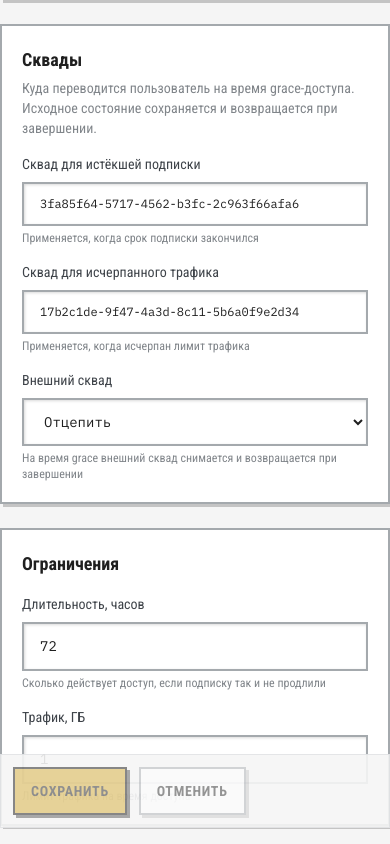
Test: раздел grace-доступа › выбор «Аварийный сквад» не сбрасывается обратно на «Отцепить»
(page scrolled)
Select "Аварийный сквад" in the dropdown labelled "Внешний сквад" at (195, 422), box [22, 398, 368, 446]
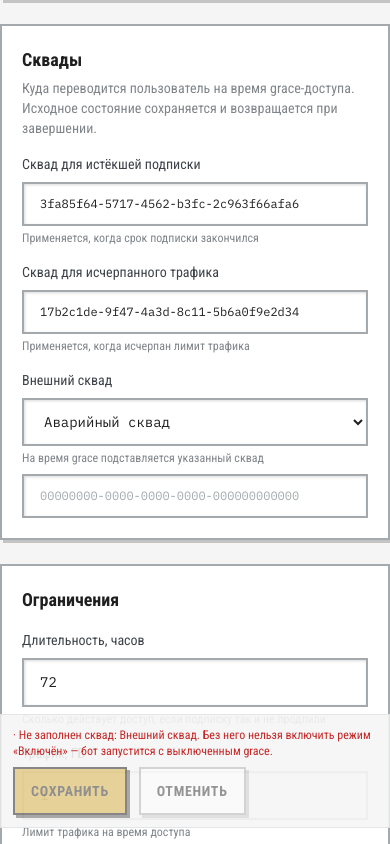
Check: the field named "Аварийный сквад" is shown, box [22, 474, 368, 518]
